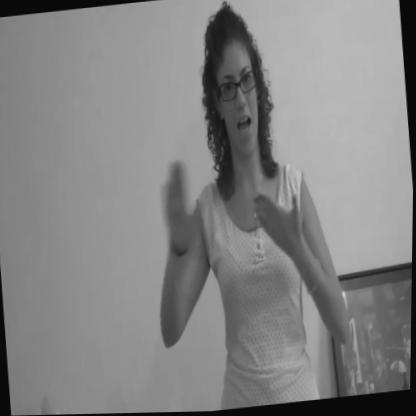NiceToMeetYou: (150, 123, 312, 290)
